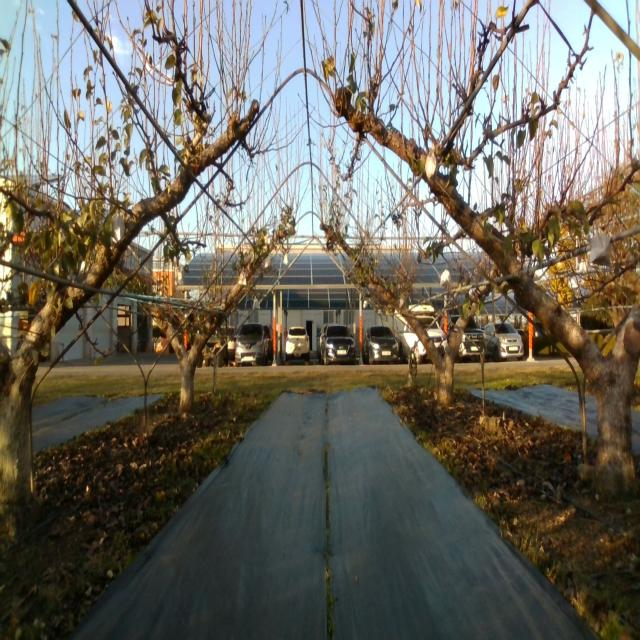pearbags: (590, 231, 612, 267), (111, 212, 125, 242), (426, 150, 438, 184), (439, 269, 452, 289)
